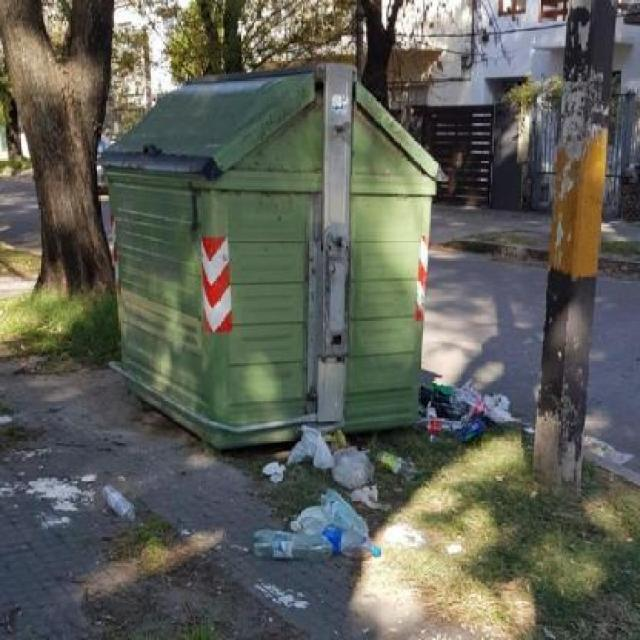garbage: (257, 429, 420, 626), (406, 360, 547, 492), (69, 466, 192, 536)
